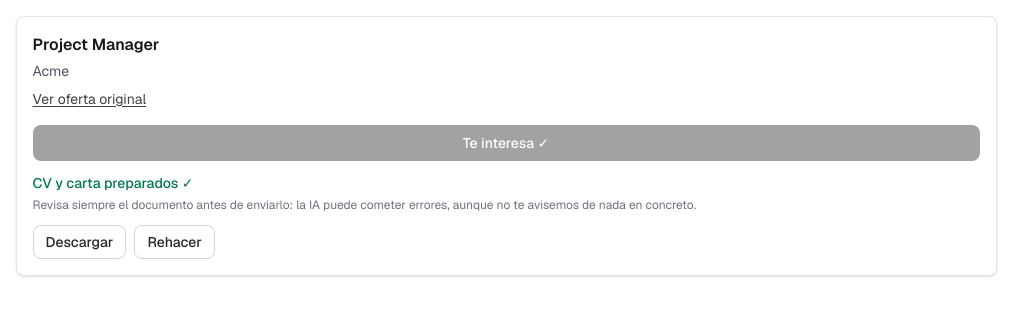
it: TarjetaOferta — descarga del PDF con reintento › si el 5xx no se despeja tras los reintentos, avisa claro y no baja nada
The image size is (1014, 322).
Click the link "Descargar" at (79, 242), box [32, 224, 126, 258]
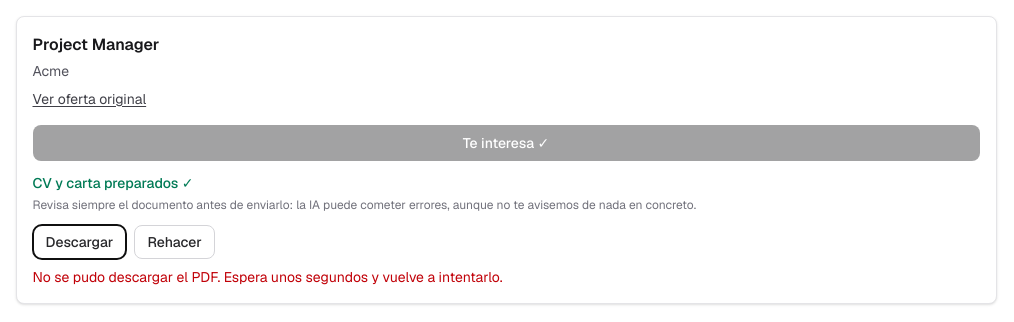
Check: the message shows "No se pudo descargar el PDF", box [32, 268, 503, 286]
